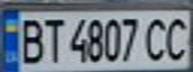0: (103, 15, 124, 63)
4: (66, 15, 87, 63)
7: (118, 15, 142, 63)
8: (84, 16, 106, 63)
B: (15, 15, 48, 65)
C: (160, 14, 193, 63), (142, 14, 172, 62)
T: (36, 15, 66, 65)
